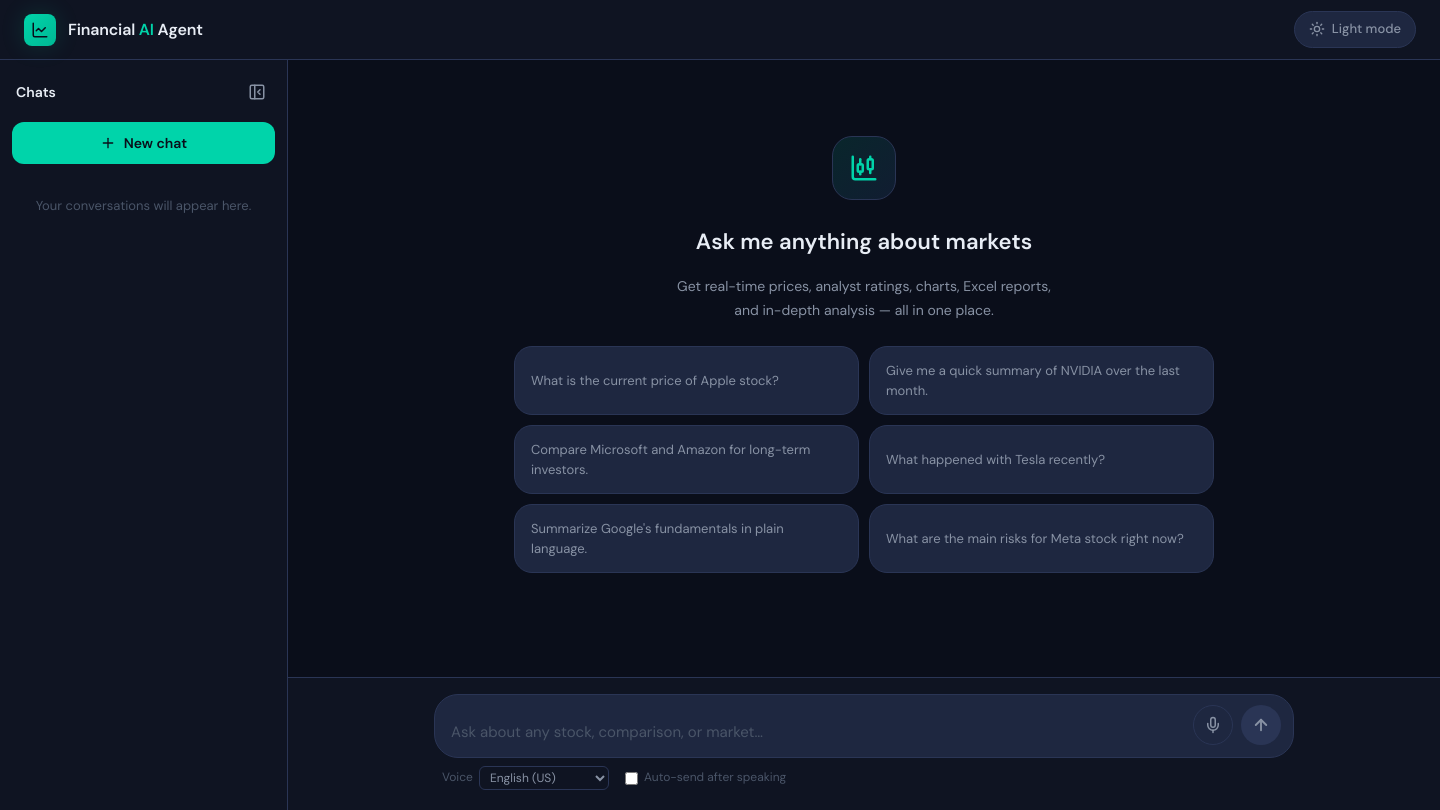
Scenario: App stock card › skips the single-ticker card for multi-ticker comparisons
Type "AAPL price" into the text box named "Message". click: x=815, y=732
box: left=447, top=716, right=1183, bottom=747
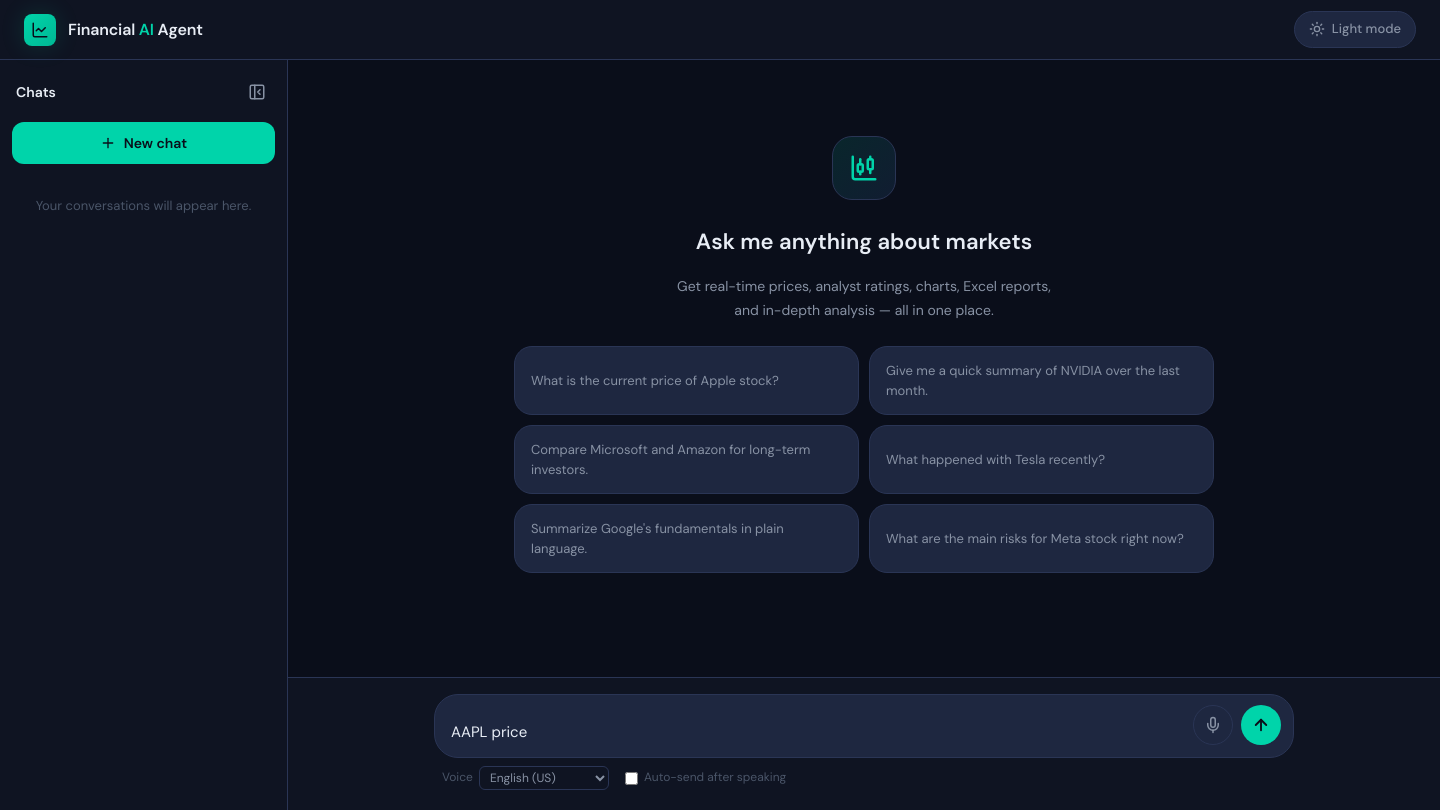
Click the button named "Send". click: x=1261, y=725
box: left=1241, top=705, right=1281, bottom=745
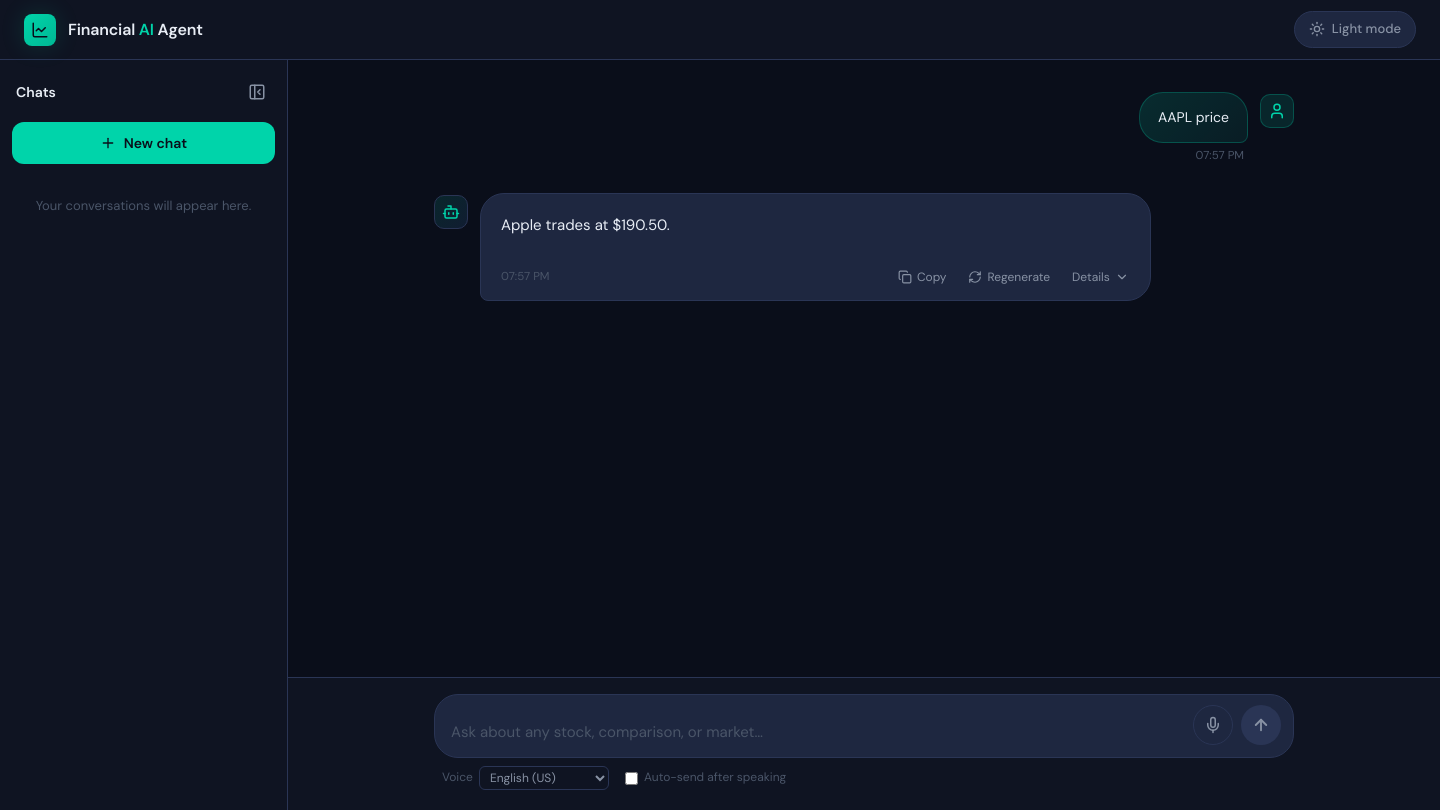
Result: the text "Apple trades at $190.50." is shown at left=501, top=216, right=670, bottom=236
